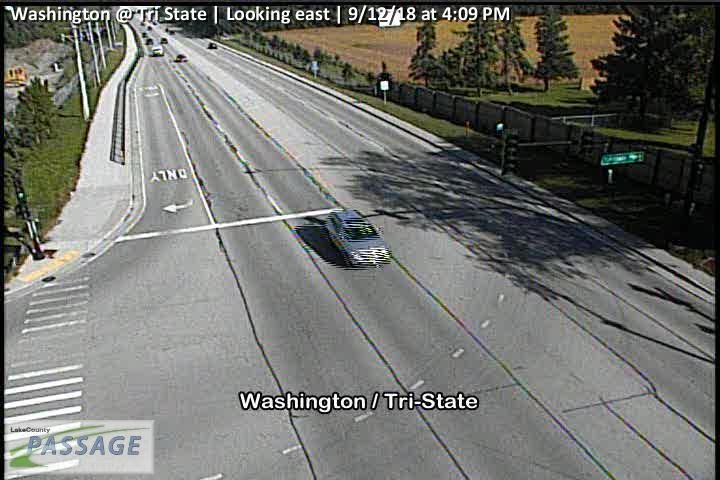SUV: (325, 206, 393, 268), (150, 45, 165, 57), (206, 41, 219, 50)
Sedan: (174, 52, 187, 62)
